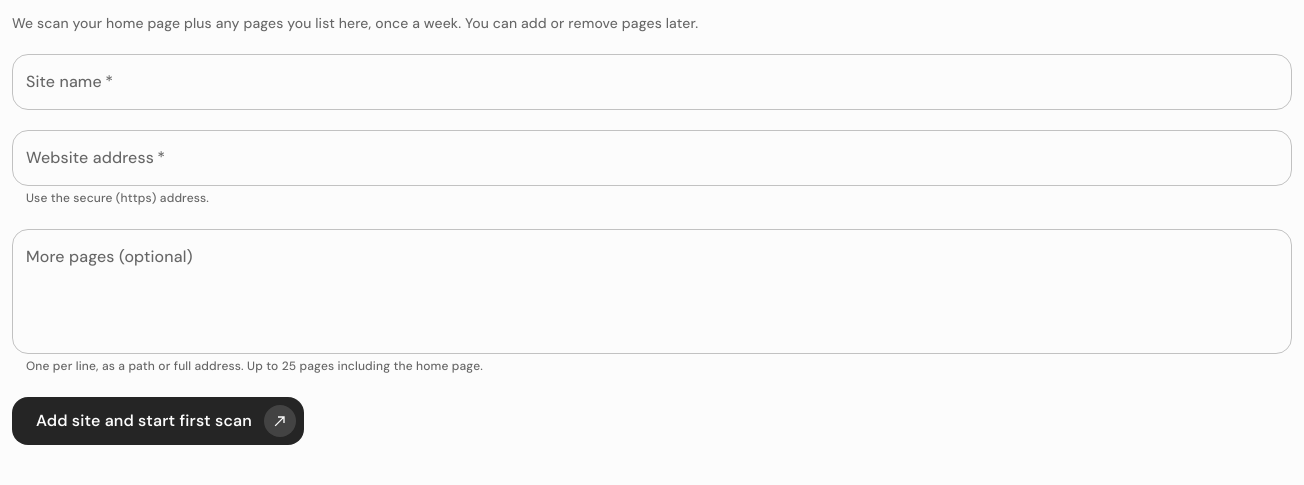
it: AddSiteForm › focuses the first invalid field and does not submit
What coordinates should you click on to do the following:
click the button "Add site and start first scan"
I would click on:
 (158, 421)
Its box is [12,397,304,445].
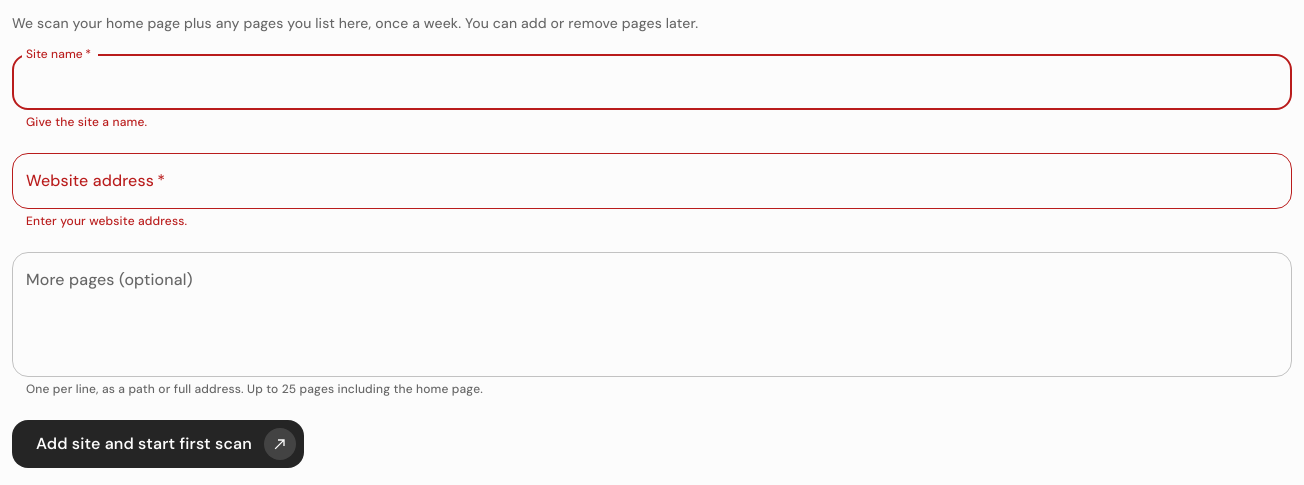
Check: the text "Give the site a name." is shown, box [26,114,147,130]
